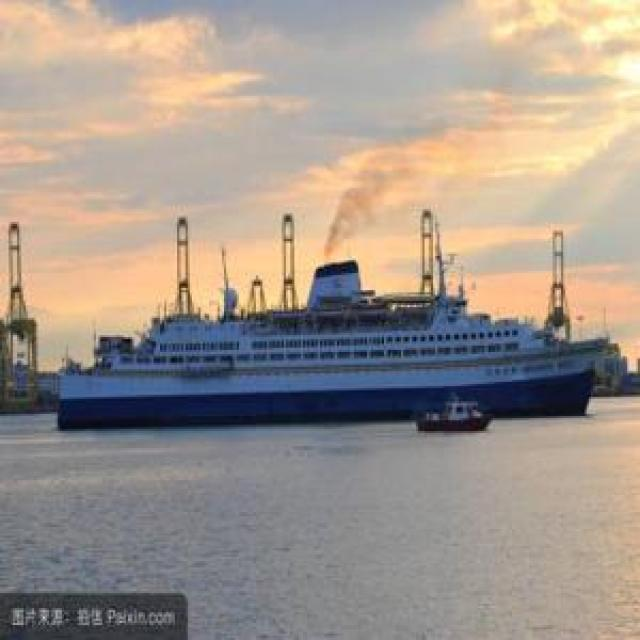houseboat: (414, 395, 492, 430)
passenger ship: (50, 256, 615, 424)
